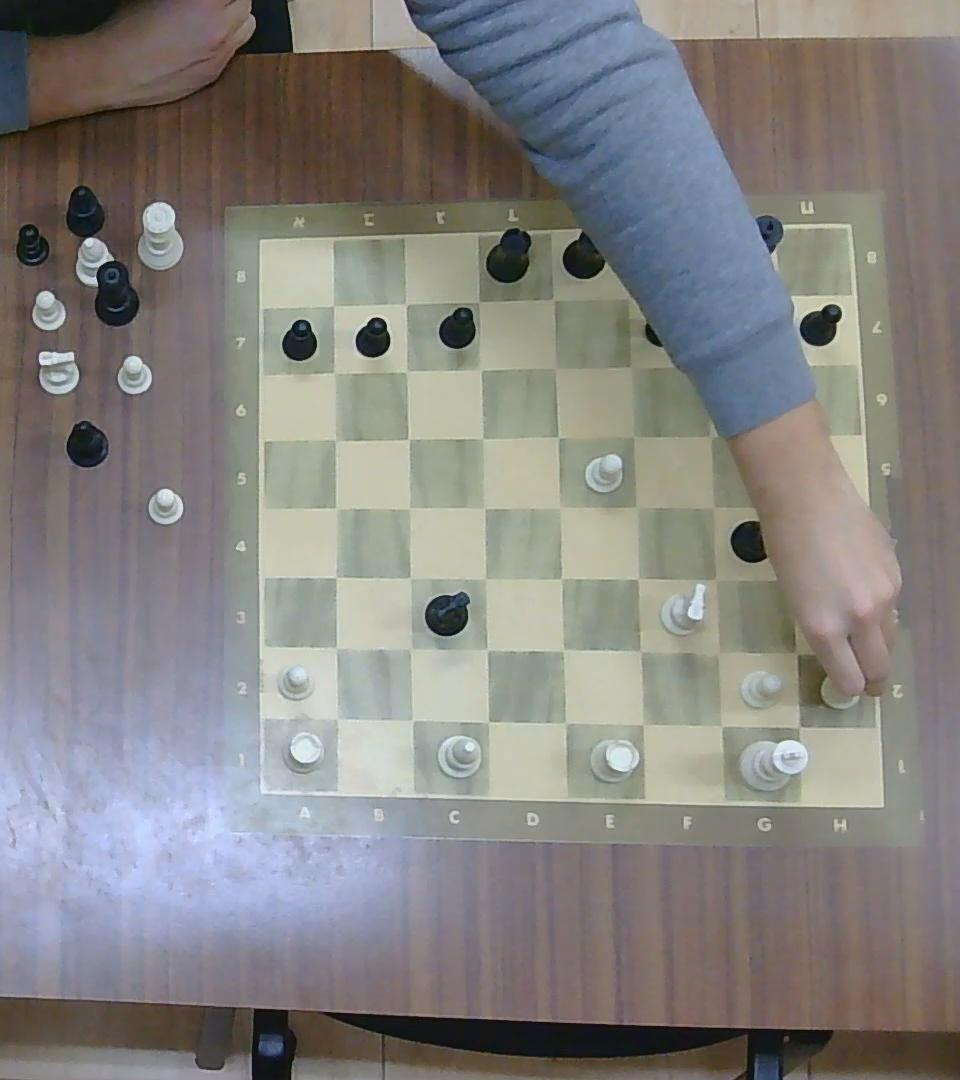xcorner: (781, 708, 815, 742), (767, 278, 801, 312), (703, 707, 738, 740), (548, 705, 580, 739), (688, 277, 718, 313), (702, 636, 734, 669), (626, 707, 658, 740), (624, 635, 656, 667), (781, 635, 812, 667), (471, 704, 502, 736), (547, 633, 578, 665), (320, 701, 351, 733), (772, 494, 802, 527), (470, 563, 501, 594), (470, 634, 502, 664), (622, 563, 652, 594), (395, 703, 425, 734), (547, 563, 577, 594), (700, 563, 730, 594), (394, 634, 424, 664), (698, 491, 728, 521), (622, 491, 652, 521), (771, 421, 800, 452), (320, 562, 350, 591), (771, 564, 801, 593), (545, 493, 574, 522), (321, 633, 350, 662), (544, 422, 573, 451), (617, 351, 646, 380), (470, 492, 499, 520), (395, 562, 423, 591), (467, 422, 495, 451), (322, 493, 350, 522), (542, 352, 571, 380), (393, 425, 422, 452), (690, 351, 717, 380), (395, 494, 423, 521), (621, 421, 649, 448), (698, 421, 725, 449), (771, 350, 798, 378), (616, 282, 642, 311), (321, 426, 349, 451), (393, 356, 419, 382), (322, 358, 348, 384), (467, 355, 493, 380), (541, 286, 566, 311), (393, 291, 418, 315), (466, 288, 491, 312), (322, 294, 345, 316)
